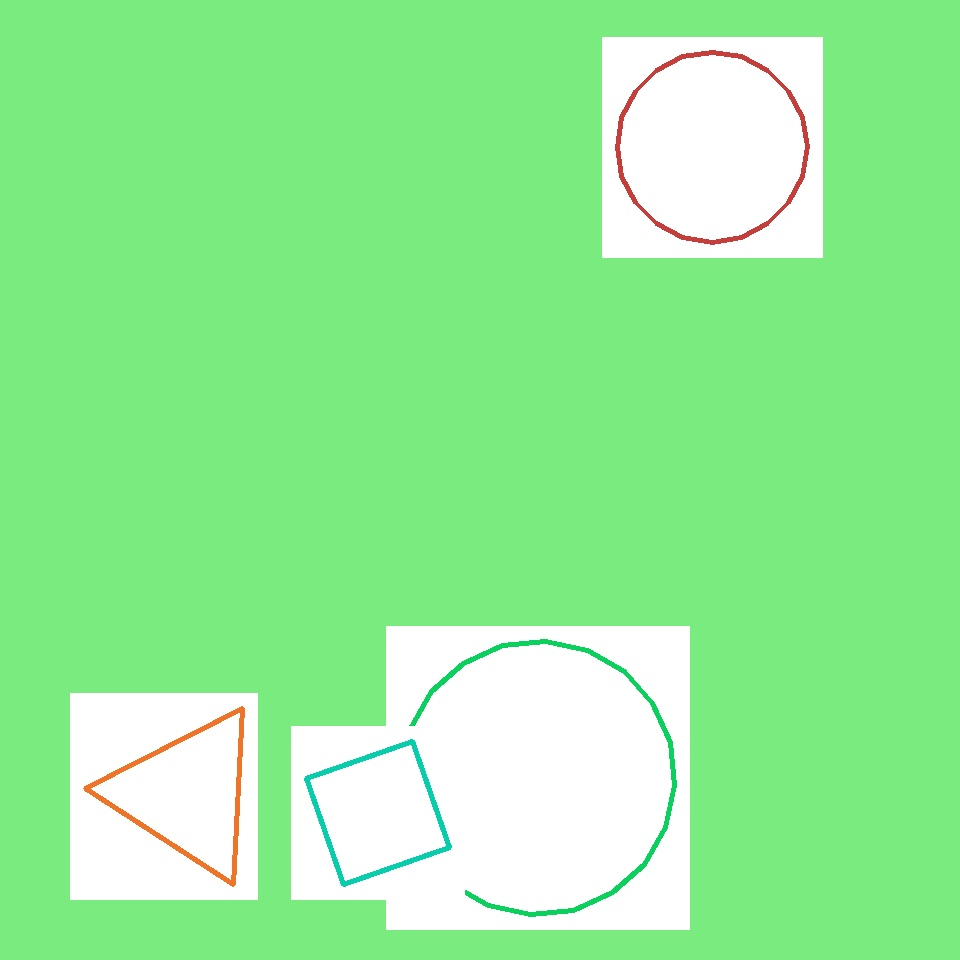circle: (344, 317, 666, 619), (258, 394, 508, 678), (404, 546, 600, 736), (108, 706, 266, 882)
square: (384, 255, 574, 444), (306, 742, 450, 884)
triangle: (402, 642, 674, 914), (617, 52, 807, 242), (194, 351, 342, 498)
